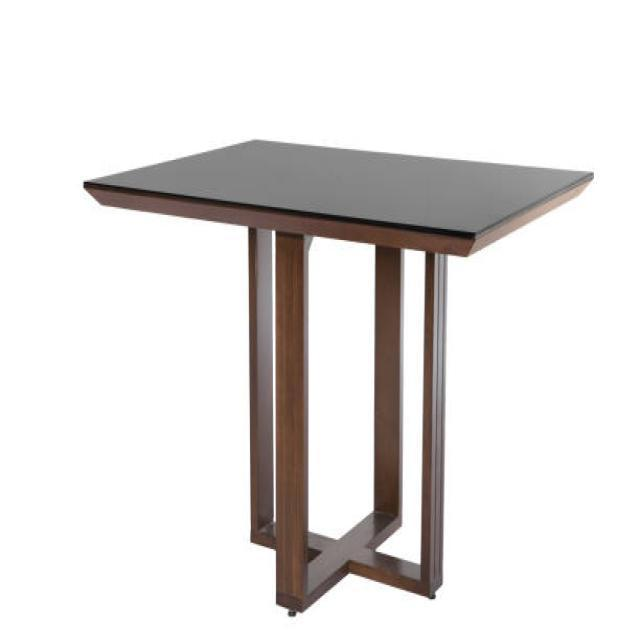table: (82, 136, 594, 616)
